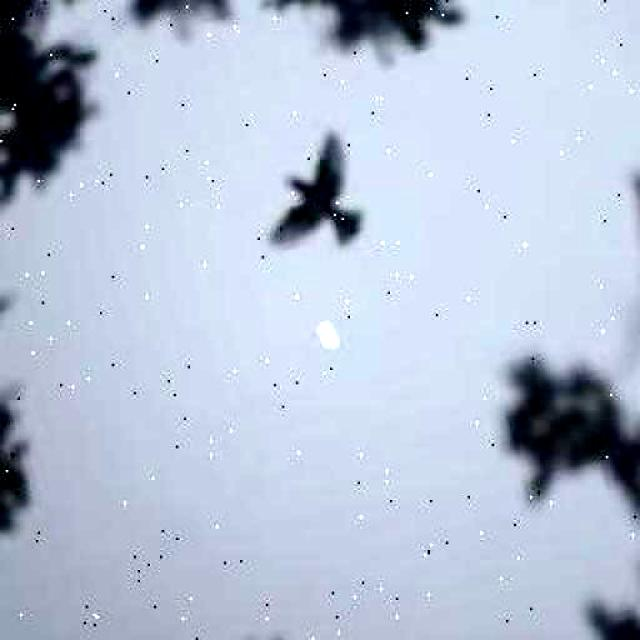airplane: (240, 116, 374, 270)
